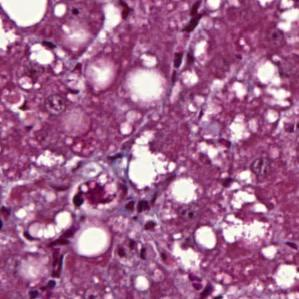ballooning: (23, 208, 75, 242)
